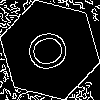O: (25, 25, 79, 75)
